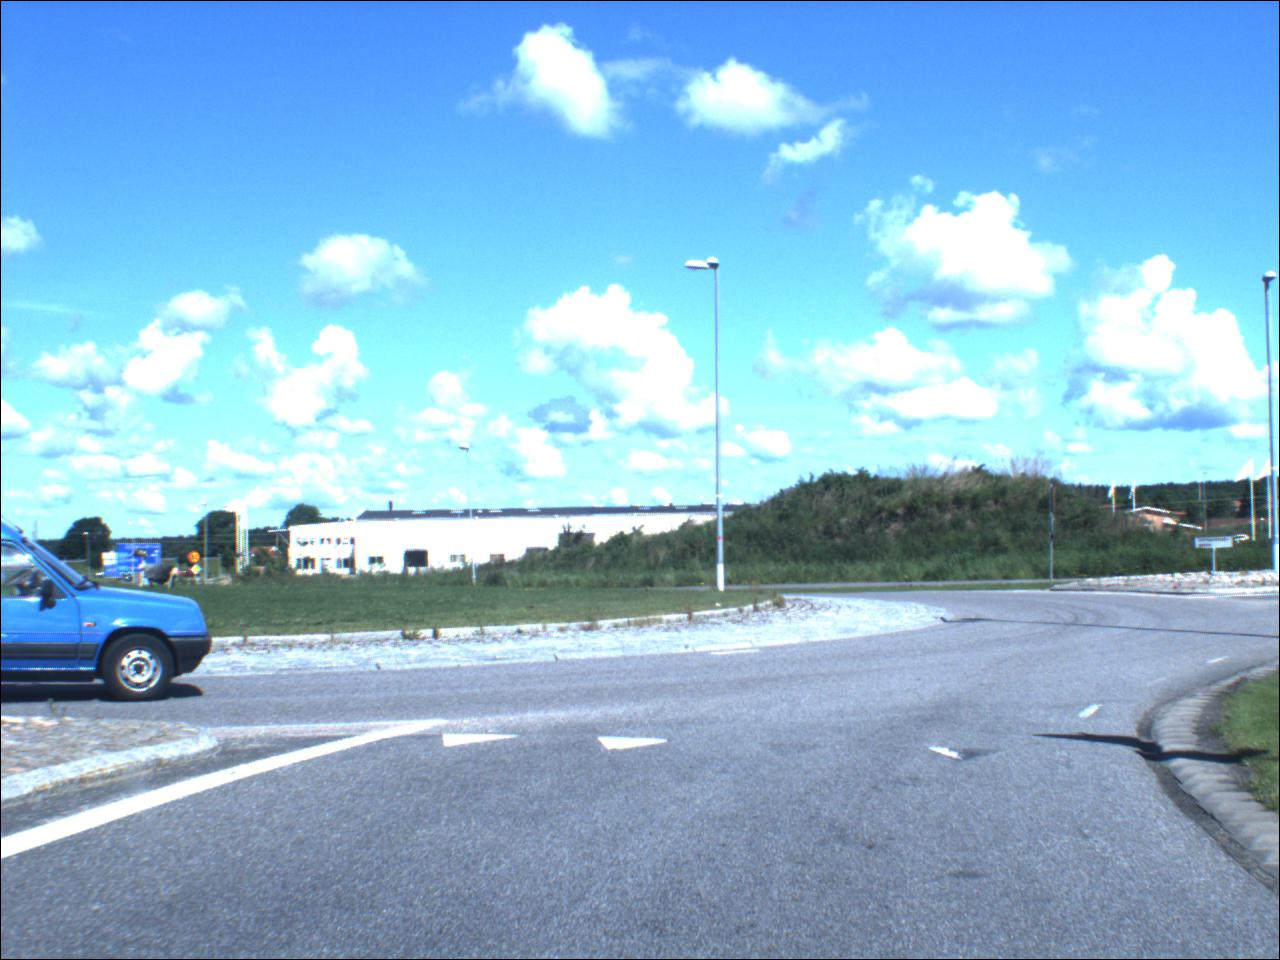80_SIGN: (190, 552, 203, 566)
PRIORITY_ROAD: (191, 566, 204, 577)
